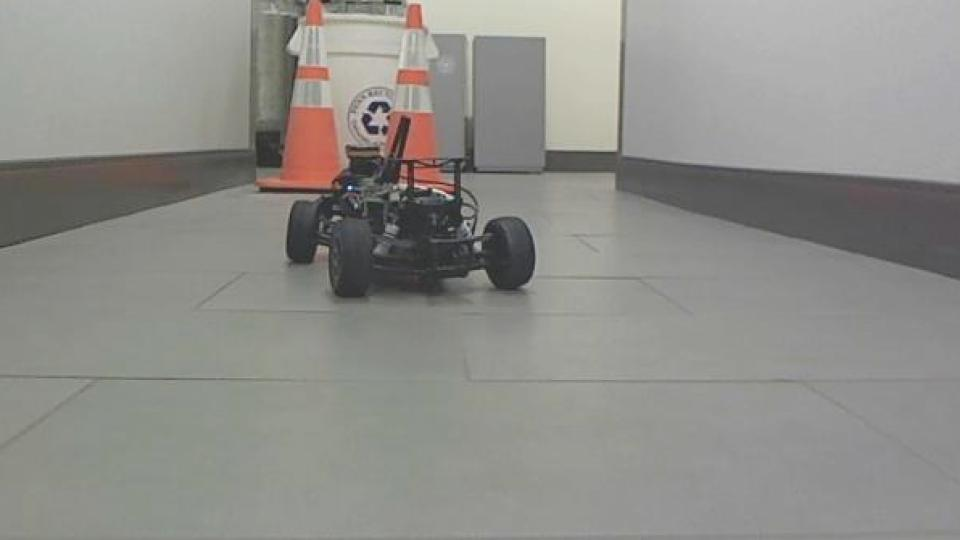car: (284, 113, 541, 301)
